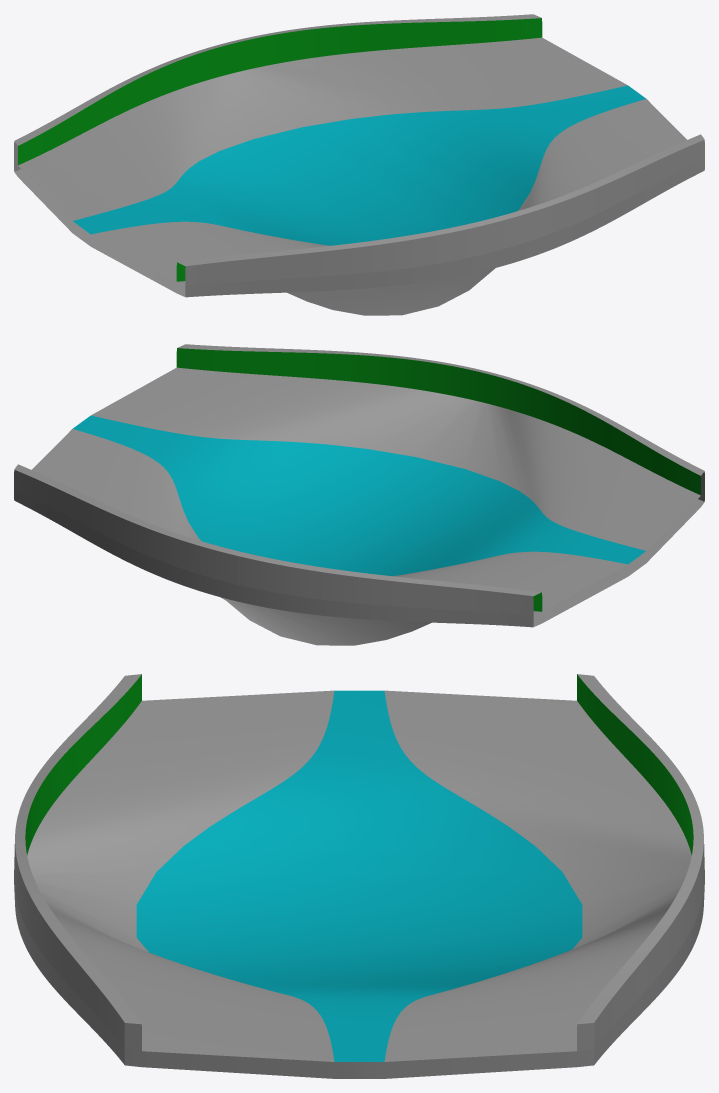
Rendered from mesh_road_bowl.FBX.
3 views of the same model, one above another, from view 1: azimuth 30°, elevation 25°; view 2: azimuth 150°, elevation 25°; view 3: azimuth 270°, elevation 25° (orthographic). The views are drawn at different scales.
Parts seen in each view (by area): view 1: Box001; view 2: Box001; view 3: Box001.
Boxes of the visible parts, x1,y1,x2,y2 form: Box001: [14, 14, 704, 315]; Box001: [14, 344, 704, 645]; Box001: [14, 674, 704, 1078].
Bounding box in the file's own units: 69.94 × 16.18 × 54.98.
